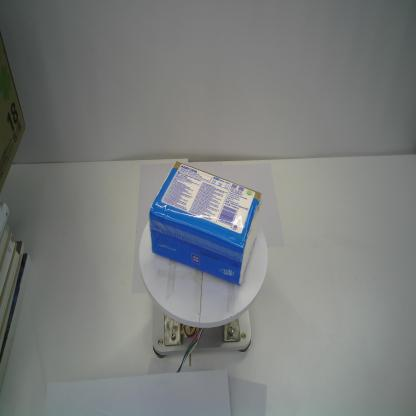Tissue: (148, 159, 264, 287)
